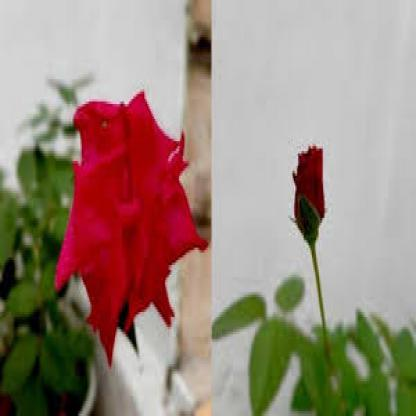Rose-Mawar: (48, 73, 206, 365), (288, 128, 330, 264)
